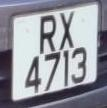1: (60, 47, 73, 91)
3: (69, 46, 89, 87)
4: (22, 51, 46, 97)
7: (42, 50, 63, 94)
R: (36, 11, 59, 57)
X: (57, 7, 78, 54)
